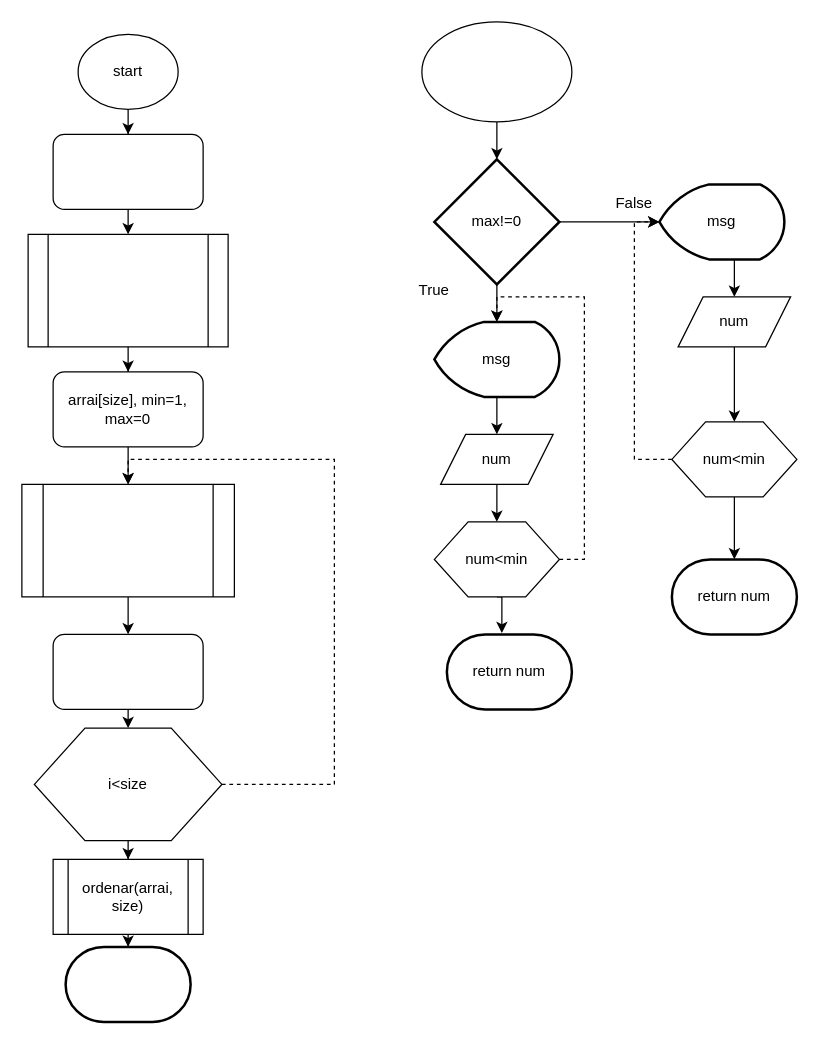
This 820x1045 diagram has some shape labels left out. Each missing label, with the centre of its shape:
arrai[i]=validar(MSG, min, max): [127,540]
end: [127,983]
i=i+1: [127,671]
min=2, i=0, max=50: [127,171]
size=validar(MSG, min, max): [127,290]
start validar(MSG, min, max): [496,71]
